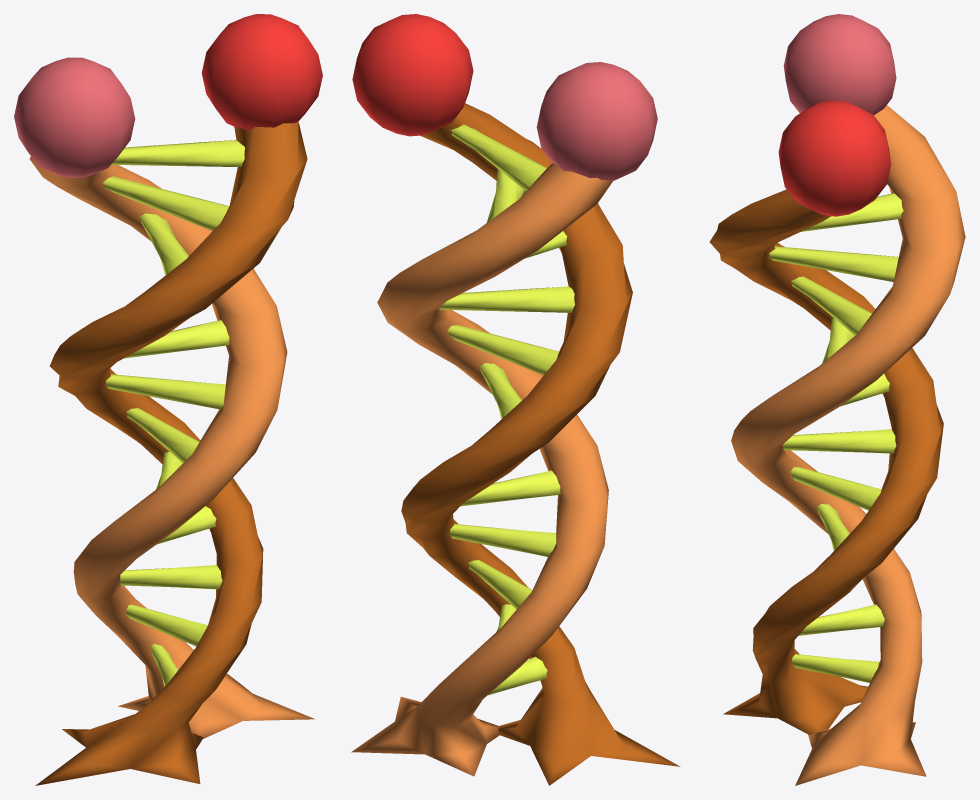
Rendered from market1.fbx.
The picture shows the model from 3 angles, left to right: view 1: azimuth 30°, elevation 25°; view 2: azimuth 150°, elevation 25°; view 3: azimuth 270°, elevation 25°; orthographic projection. The views are drawn at different scales.
Parts seen in each view (by area): view 1: market1; view 2: market1; view 3: market1.
Boxes of the visible parts, x1,y1,x2,y2 form: market1: (14, 14, 322, 785); market1: (351, 14, 680, 785); market1: (709, 14, 965, 785).
Size of the model in its own units: 60.82 by 135 by 47.07.
